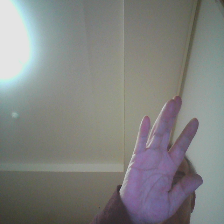hand: (123, 93, 202, 224)
